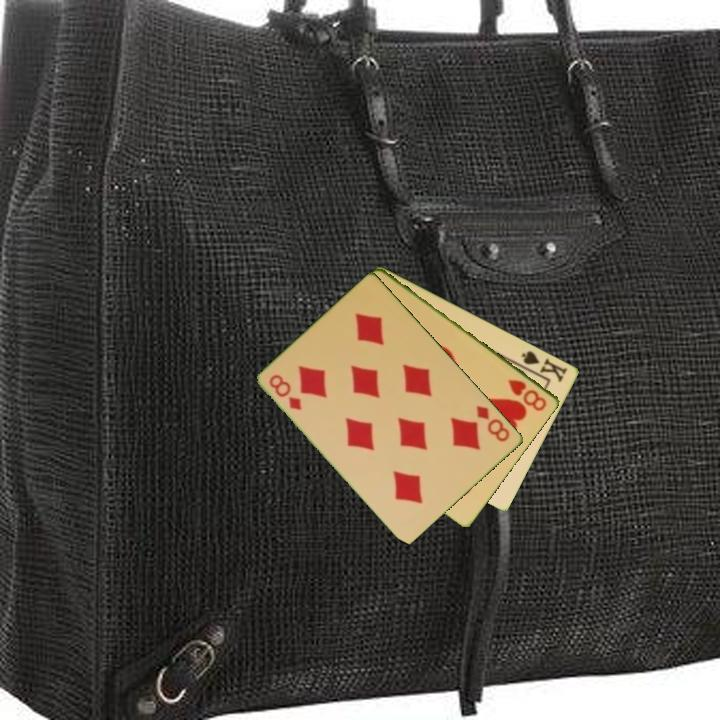8d: (473, 402, 513, 445), (266, 371, 305, 413)
8h: (505, 375, 550, 414)
Ks: (515, 347, 570, 385)
